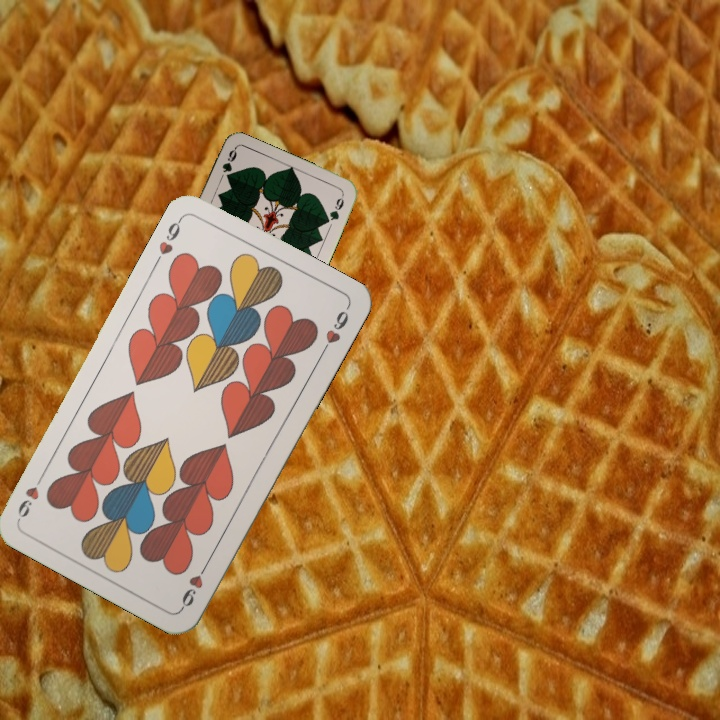G9: (216, 145, 239, 184)
H9: (177, 557, 212, 612), (154, 212, 186, 257)
